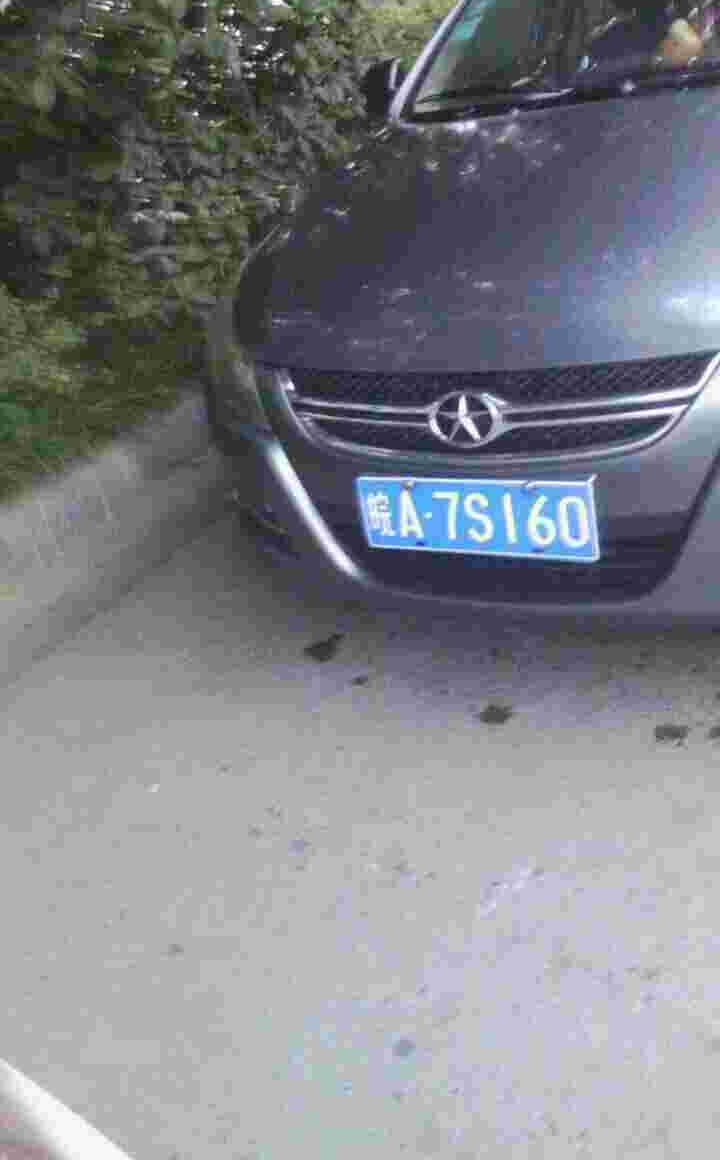plate: (353, 472, 603, 563)
